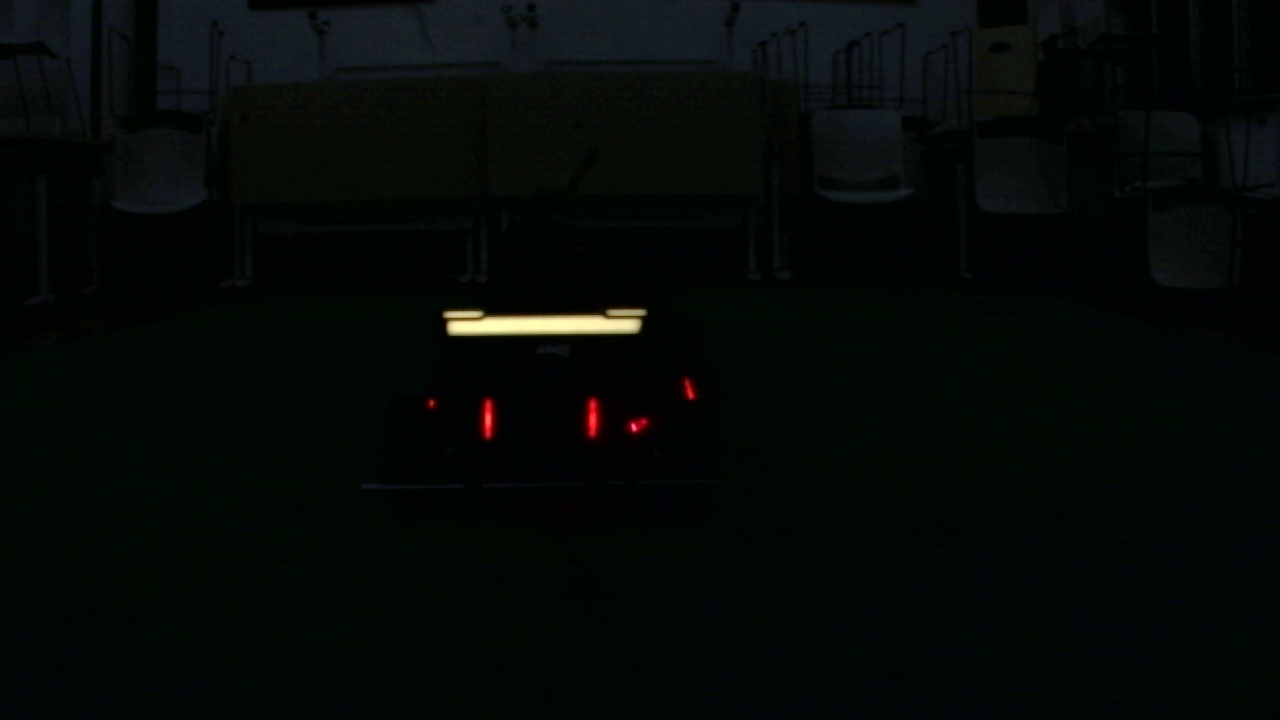lamp: (581, 397, 600, 440), (479, 397, 496, 440)
pair1: (481, 396, 599, 438)
